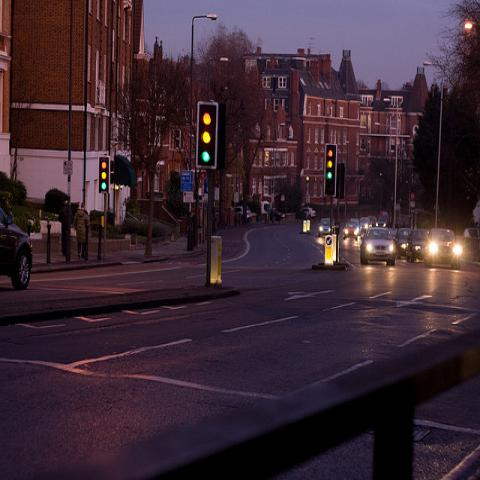car: (1, 206, 33, 291), (424, 228, 461, 272), (360, 229, 395, 266), (406, 230, 429, 262), (392, 228, 413, 259), (343, 222, 360, 243), (318, 218, 331, 236), (462, 226, 480, 237), (375, 216, 390, 229), (360, 215, 370, 234), (270, 210, 281, 220)
